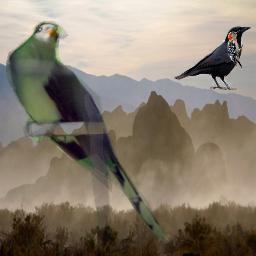Crow: (174, 26, 251, 90)
Cuckoo: (6, 21, 178, 243)
Woodpecker: (226, 29, 243, 71)
